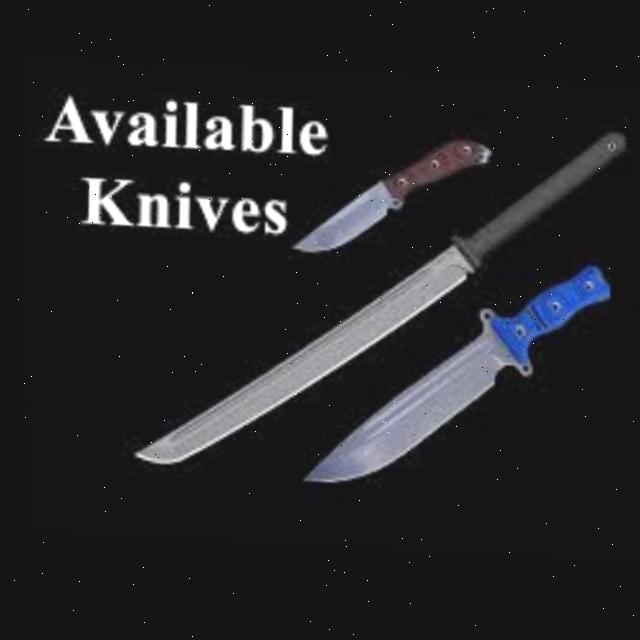Knife: (106, 92, 640, 505), (281, 240, 618, 509), (280, 123, 496, 272)
